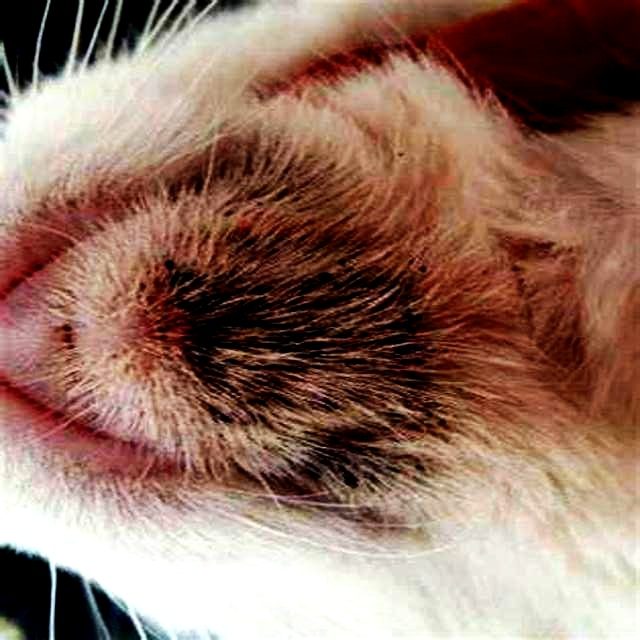acne: (154, 212, 437, 485)
